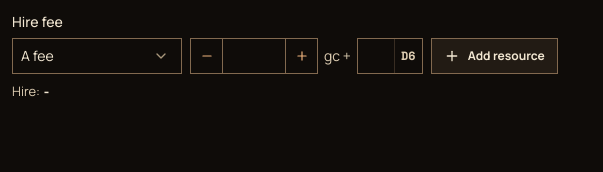
Test: FeeEditor › takes the gold and the dice on one line and reads them back
The width and height of the screenshot is (603, 172).
In the number field named "Hire fee gold": [254, 56] box x1=222 y1=38 x2=286 y2=74, type "30"
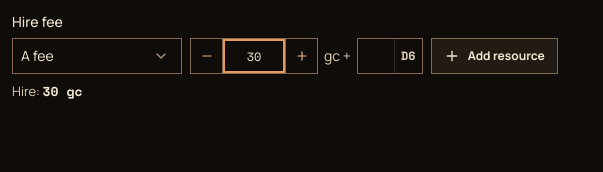
In the field named "Hire fee dice: how many D6": [376, 56] box x1=358 y1=39 x2=394 y2=73, type "1"
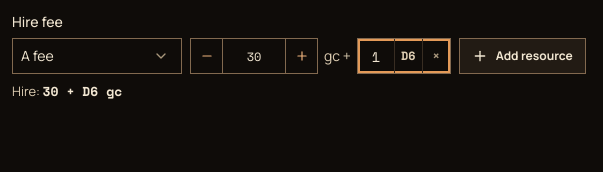
Expected: the text "Hire: 30 + D6 gc" is shown, x1=12 y1=81 x2=122 y2=101
